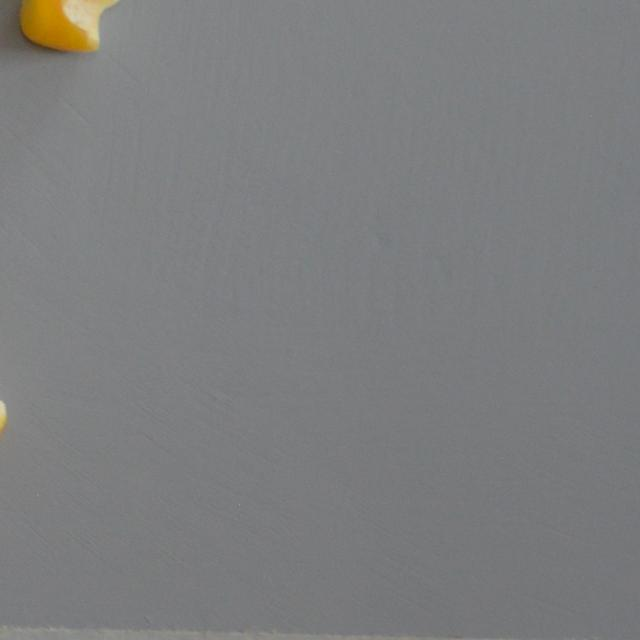no_canjicado: (18, 0, 124, 52)
